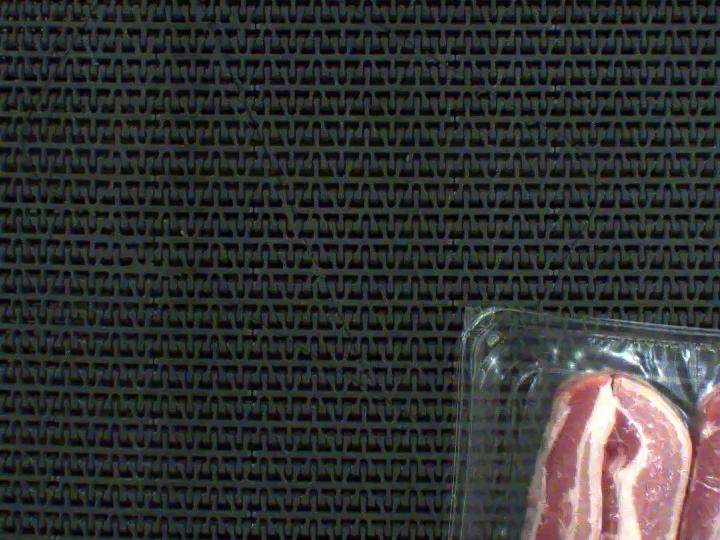unsealed: (509, 328, 720, 540)
